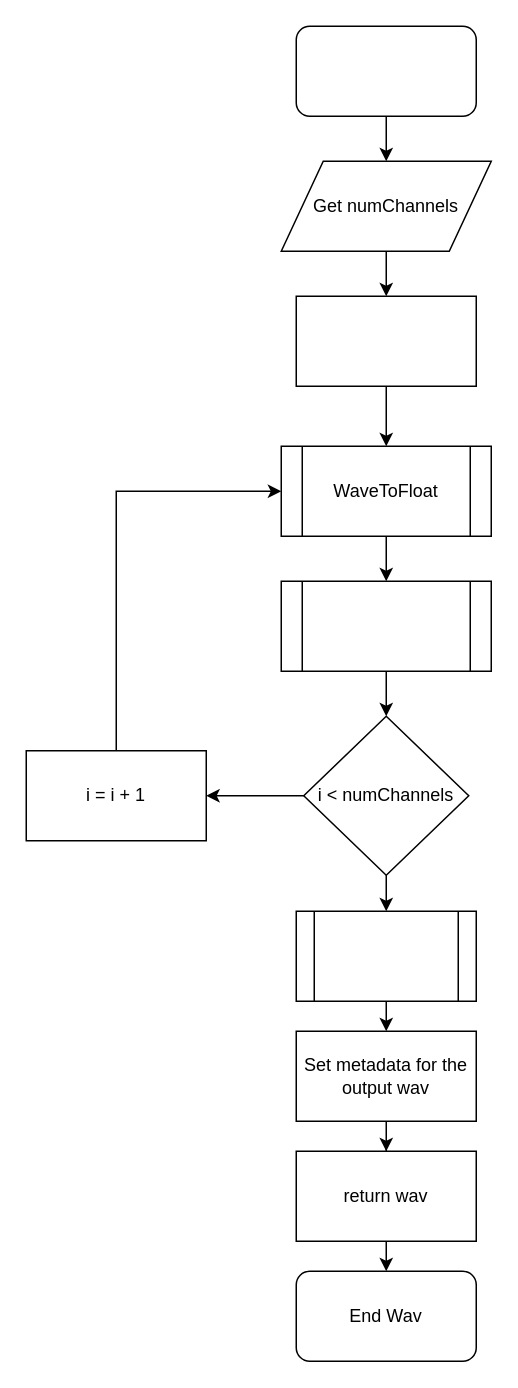
The diagram is 518 pixels wide and 1388 high, and some of its shapes have lost their labels. Here are the shapes that lost their labels. From the top down, the centre of each, then its label:
At point (385, 70): "Begin ProcessAudio".
At point (385, 340): "set i to 0".
At point (385, 625): "ProcessingFunction".
At point (385, 955): "FloatToRaw".
